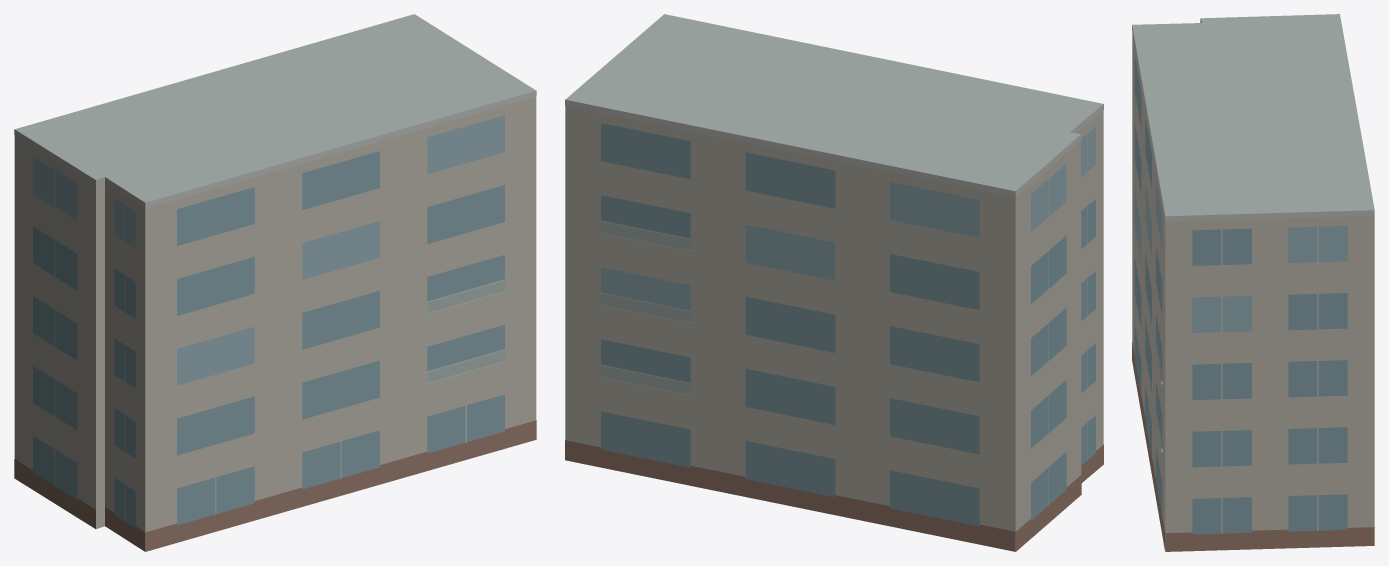
File: survey-upis-32872947.glb
3 views of the same model, side by side, from view 1: azimuth 30°, elevation 25°; view 2: azimuth 150°, elevation 25°; view 3: azimuth 270°, elevation 25° (orthographic). The views are drawn at different scales.
Visible parts, largest first — view 1: survey-upis-32872947.tmp; view 2: survey-upis-32872947.tmp; view 3: survey-upis-32872947.tmp.
Boxes of the visible parts, x1,y1,x2,y2 form: survey-upis-32872947.tmp: (14,14,536,551); survey-upis-32872947.tmp: (565,14,1103,551); survey-upis-32872947.tmp: (1132,14,1374,551).
Size of the model in its own units: 18.88 by 14.6 by 9.57.
